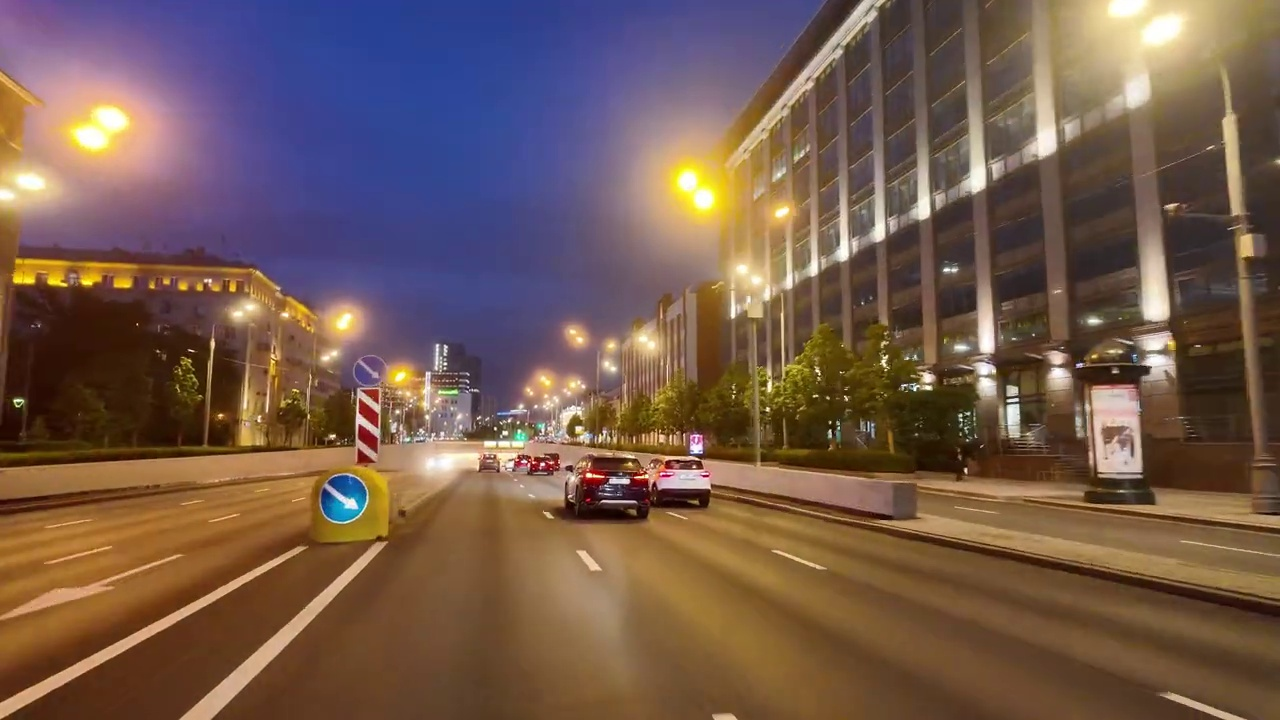acesa: (1097, 1, 1195, 56), (67, 101, 132, 160), (669, 163, 727, 218), (1138, 8, 1194, 57), (1, 165, 52, 207), (324, 306, 360, 336), (732, 260, 765, 291), (632, 327, 662, 356), (766, 200, 794, 228), (563, 322, 589, 349), (387, 364, 415, 389)
